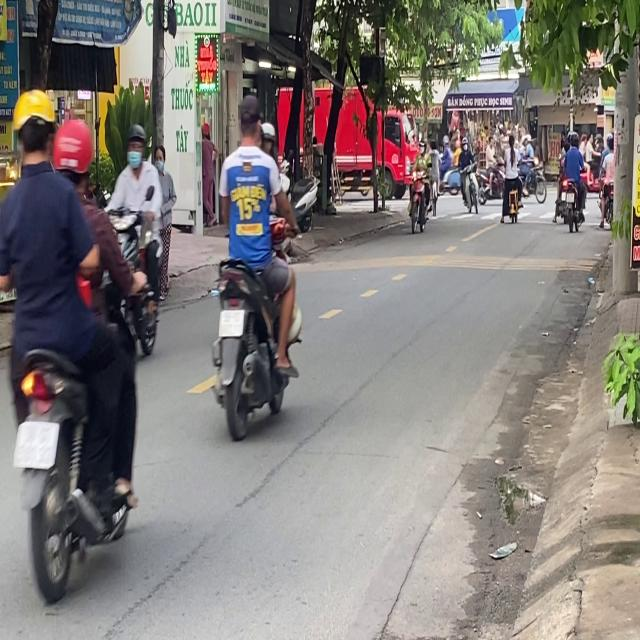helmet: (10, 87, 59, 170), (52, 117, 94, 188), (125, 122, 146, 168)
licenseplate: (0, 86, 144, 597), (208, 91, 304, 436), (102, 121, 168, 364)
motorcyclist: (236, 92, 262, 144)
nohelmet: (14, 421, 58, 466), (219, 309, 243, 335)
